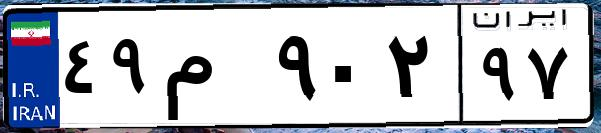0: (330, 28, 385, 110)
2: (385, 28, 445, 110)
4: (57, 26, 110, 100)
7: (525, 38, 570, 115)
9: (270, 28, 330, 110), (475, 38, 525, 113), (110, 28, 158, 98)
م: (158, 20, 270, 120)
